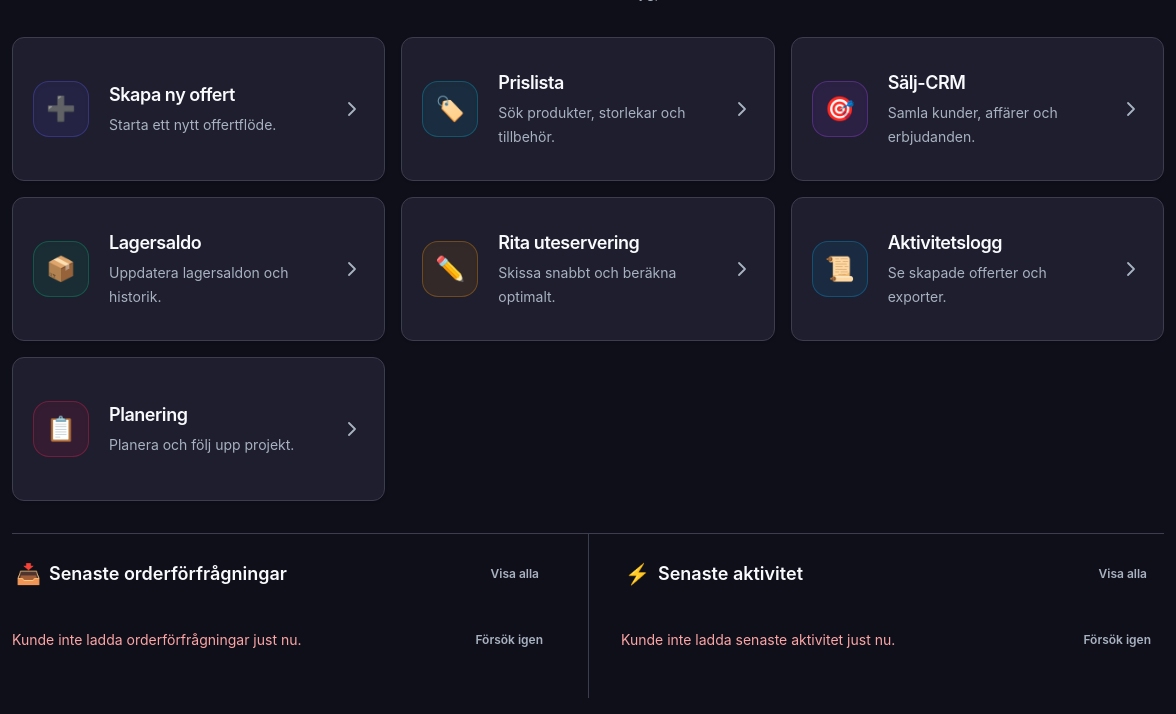
Scenario: Dashboard admin workspace › supports retrying each failed feed and then renders its empty state
This screenshot has width=1176, height=714.
(page scrolled)
Check: the message "Kunde inte ladda orderförfrågningar just nu. Försök igen" is shown, box [12,622,556,658]
Check: the message "Kunde inte ladda senaste aktivitet just nu. Försök igen" is shown, box [621,622,1164,658]
Click the button "Försök igen" below "Senaste orderförfrågningar". click: (509, 640)
box: [462,622,556,658]
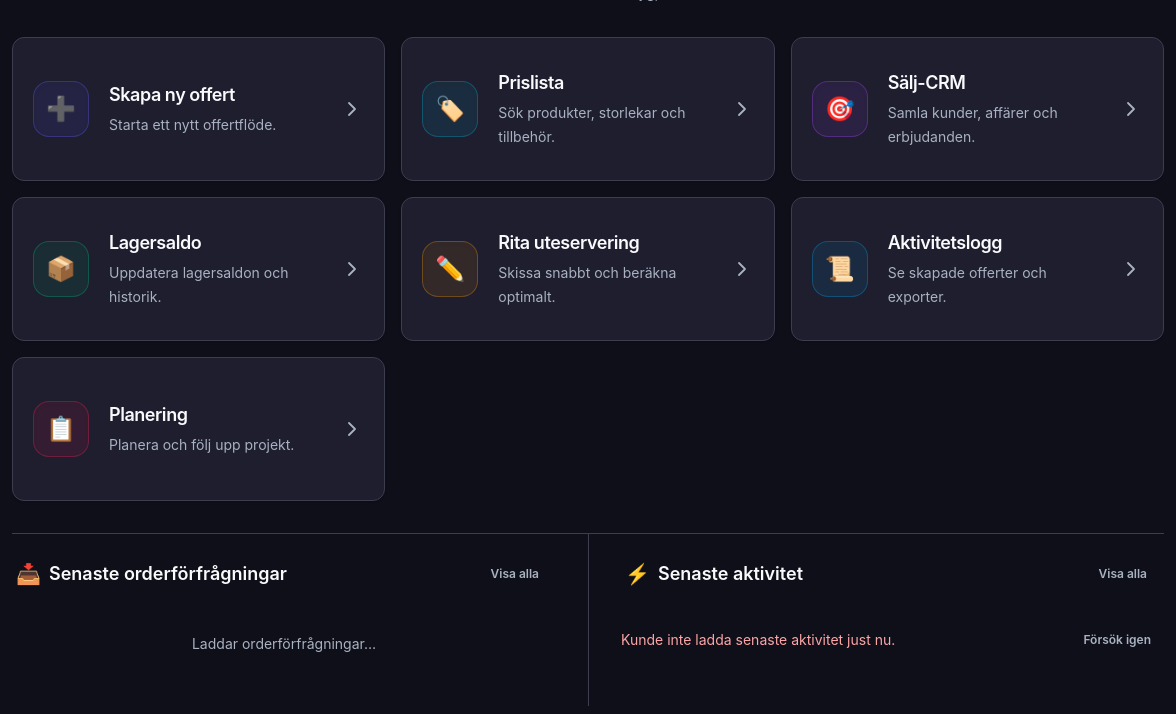
Check: the element that starts with "Senaste aktivitet" is shown, box [588,534,1164,706]
Click the button "Försök igen". click: (1117, 640)
box: [1070,622,1164,658]
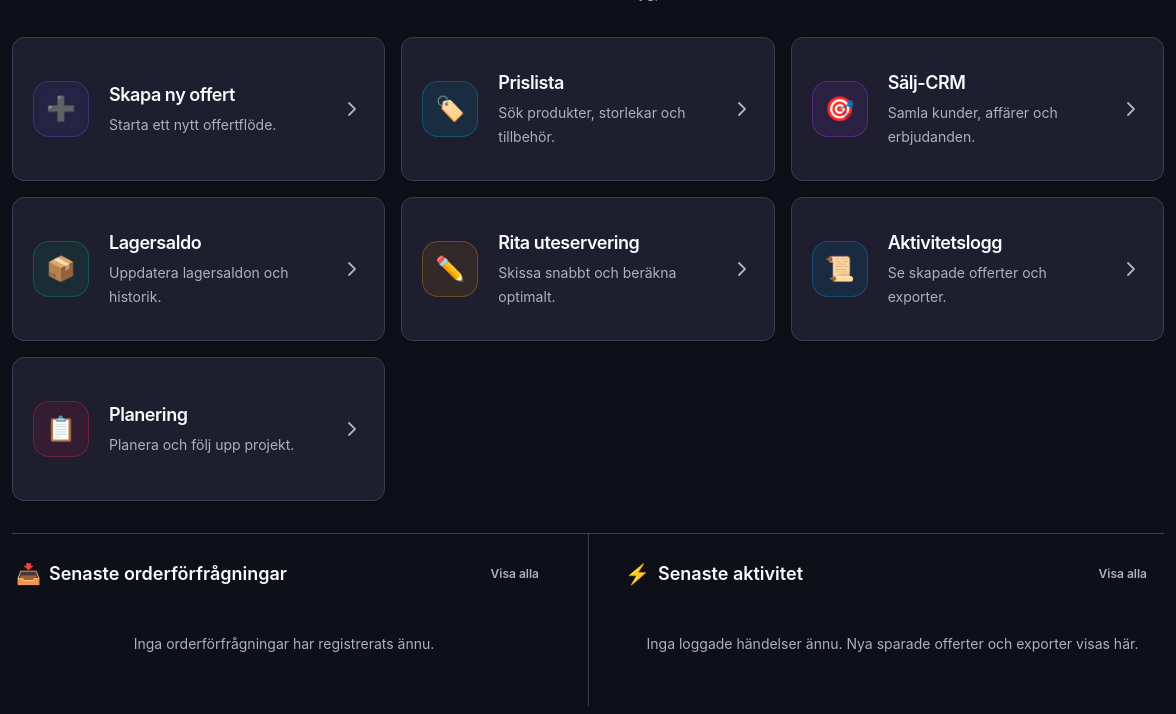
Check: the text "Inga orderförfrågningar har registrerats ännu." is shown, box [134,635,434,652]
Check: the text "Inga loggade händelser ännu" is shown, box [647,635,1138,652]
